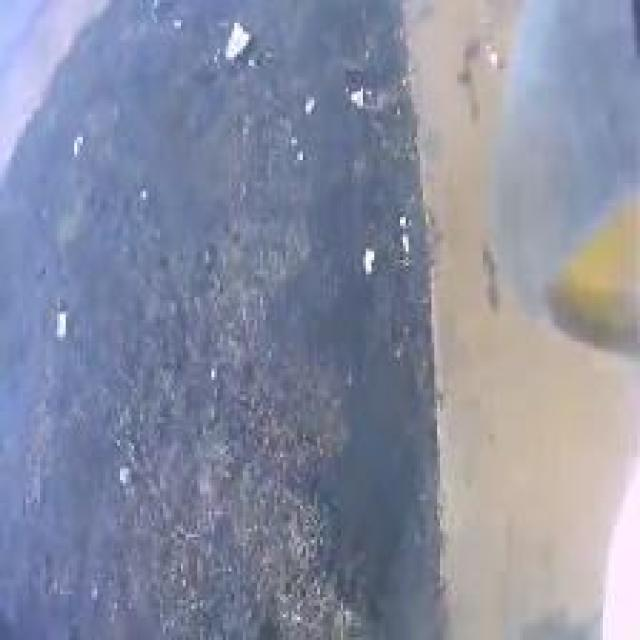other: (552, 206, 634, 337)
